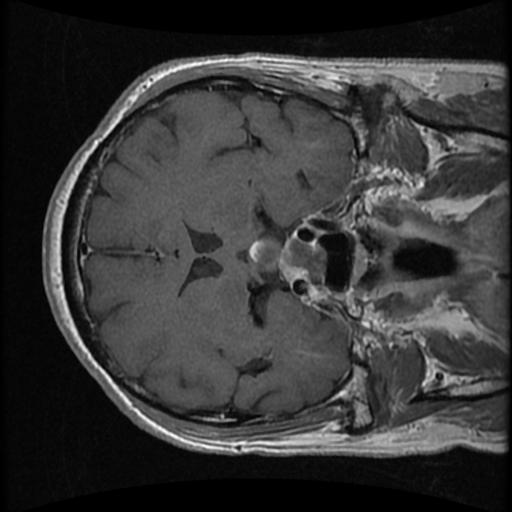pituitary tumour: (245, 236, 283, 273)
